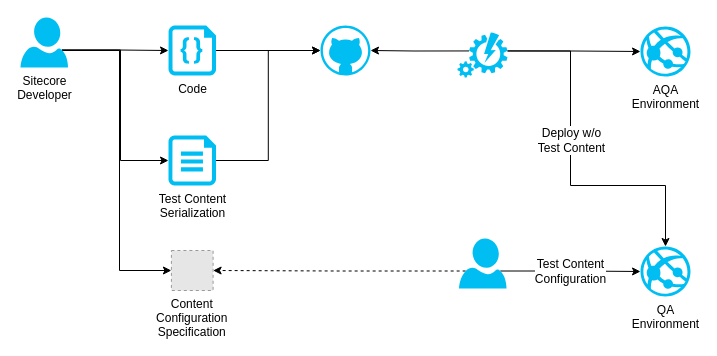
Some shapes in this 717 by 356 pixel diagram are drawn without their labels. Grey dashed boxes stand in for pictures. The box of each missing label's shape, as (x1, y1, x2, y2) in pixels:
CI/CD: (457, 32, 507, 77)
GitHub: (320, 25, 370, 75)
QA: (458, 238, 506, 288)
